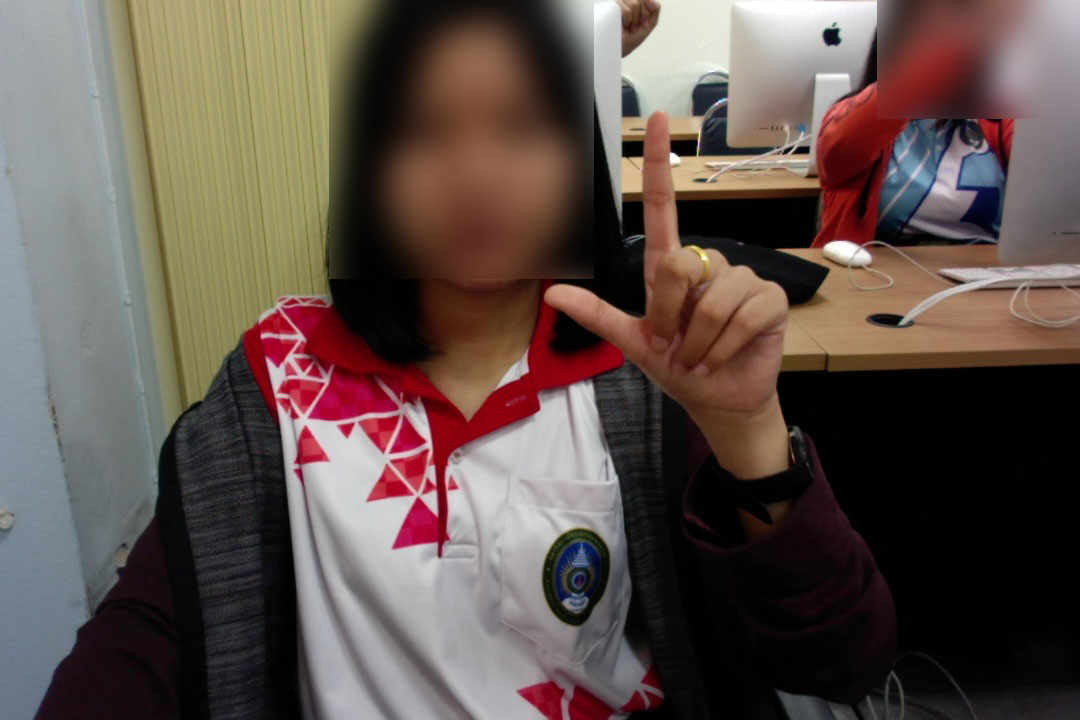lor: (524, 106, 808, 456)
